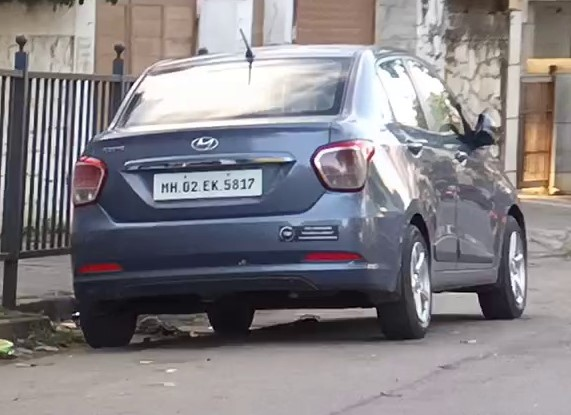MH02EK5817: (153, 169, 262, 201)
